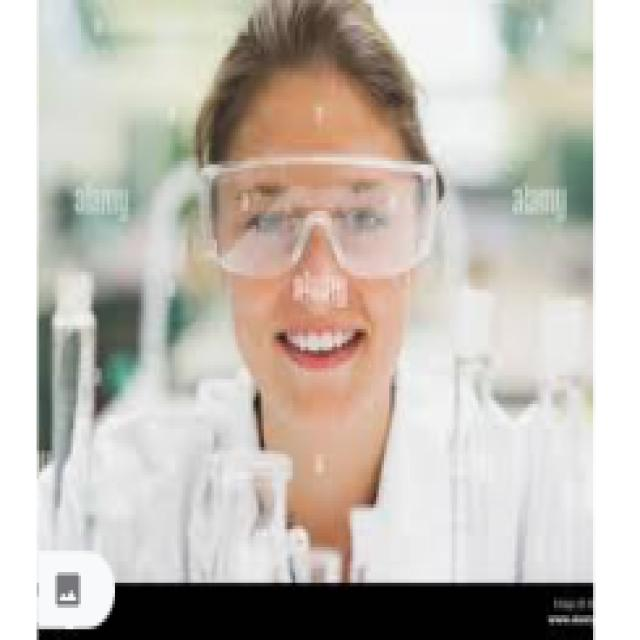glasses: (200, 148, 442, 287)
